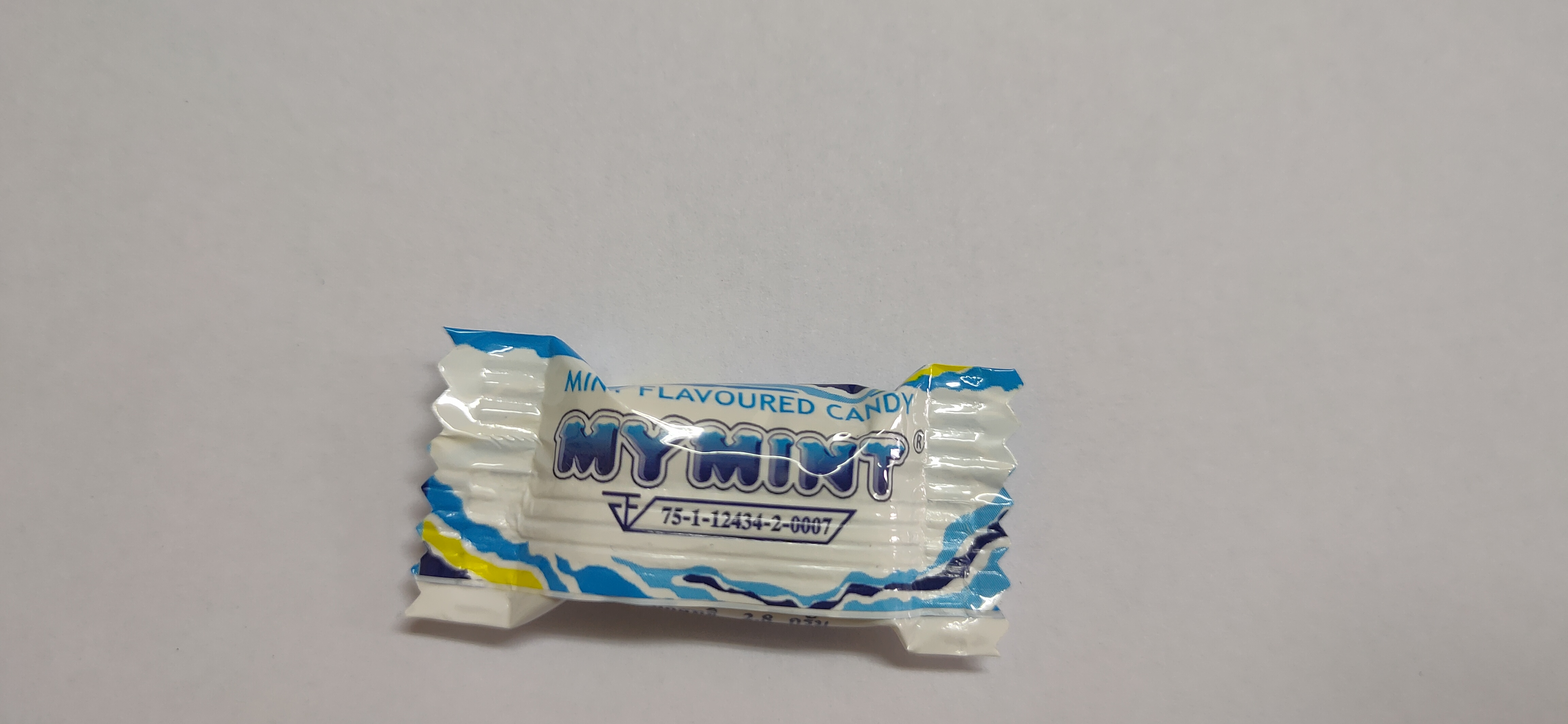plastic: (385, 297, 1065, 682)
